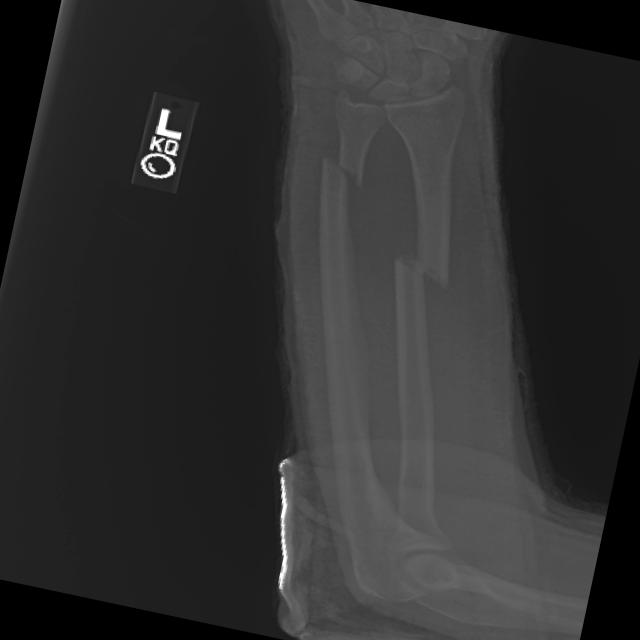forearm fracture: (358, 234, 486, 320), (292, 133, 396, 219)
